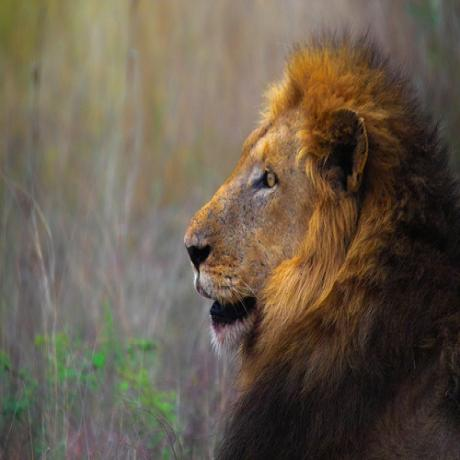Lion: (182, 40, 460, 460)
